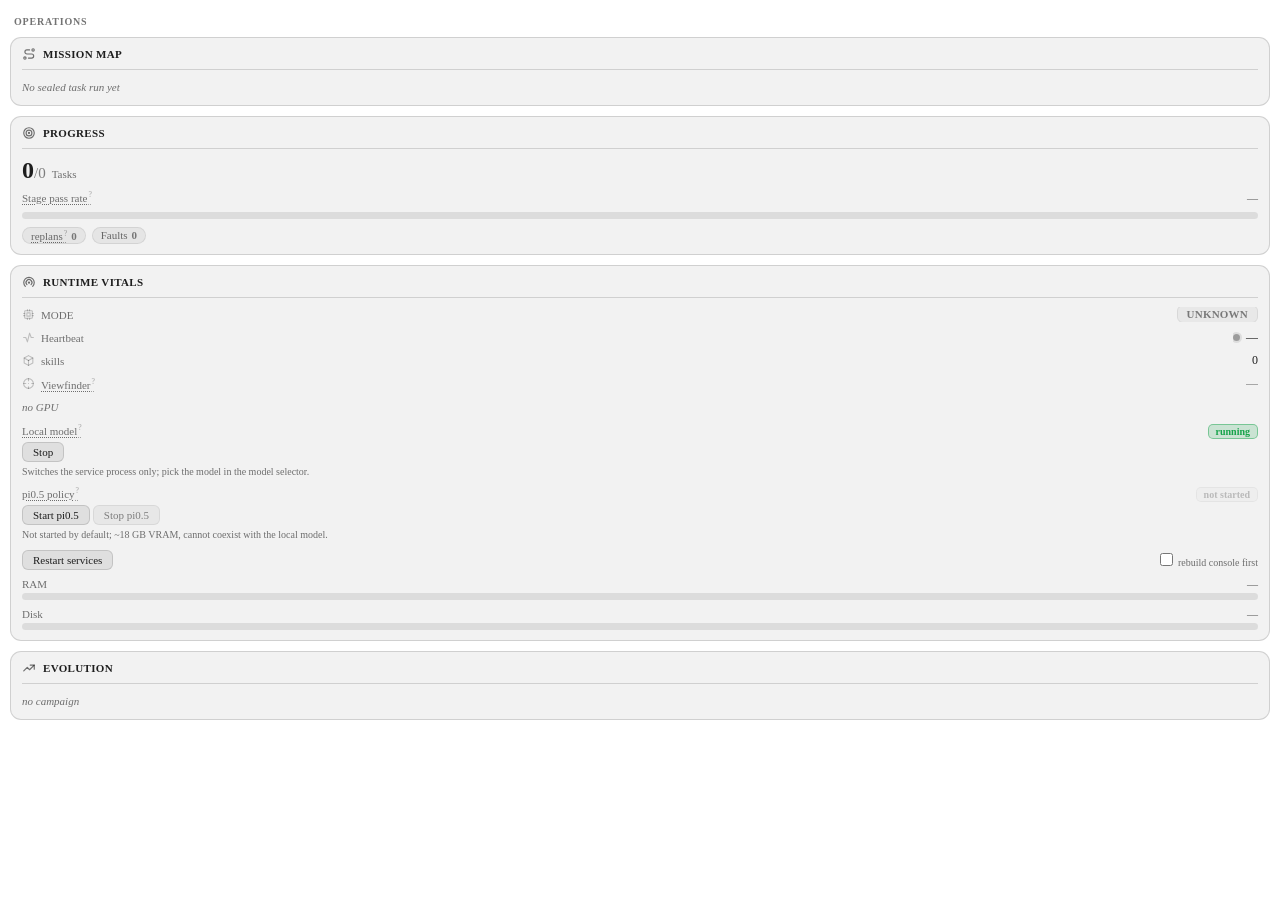
Test: OperatorRail smoke › holds the button down on click until a poll confirms the switch
This screenshot has width=1280, height=900.
Expected: the text "running" is shown, [1208,424,1258,439]
Step 1. Click the button "Stop" → x=43, y=452, box [22,442,64,462]
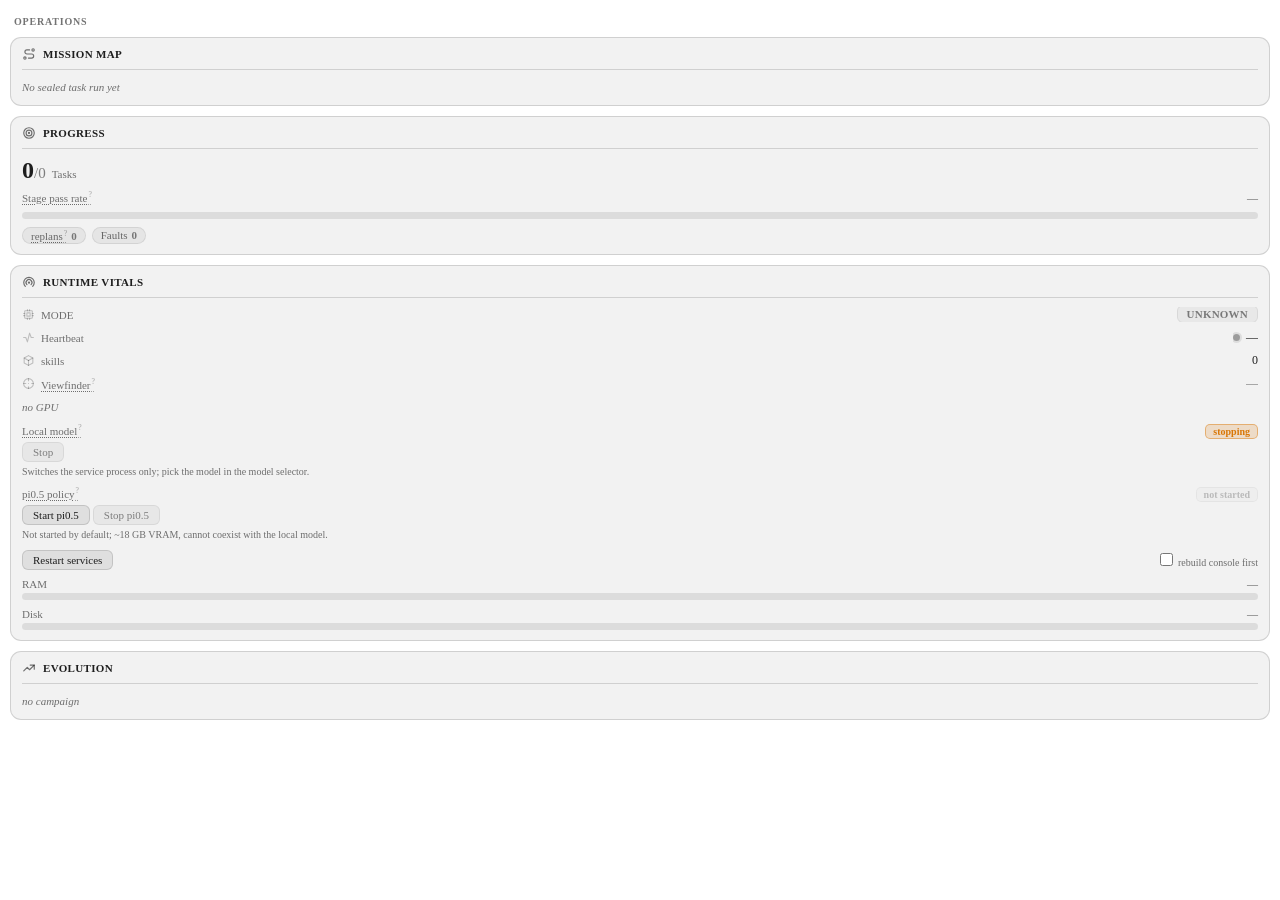
Now the text "stopping" is shown, box [1205,424,1258,439]
Now the button "Stop" is disabled, box [22,442,64,462]
